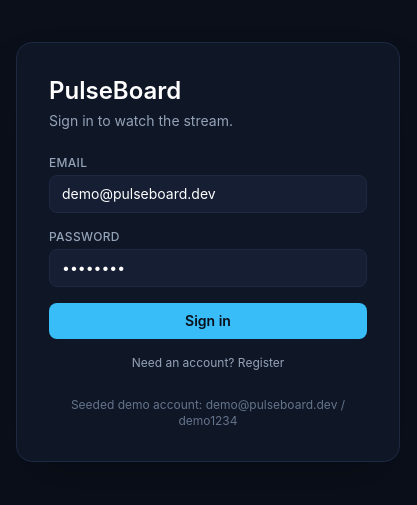
Test: LoginPage › shows the API message when the credentials are rejected
The width and height of the screenshot is (417, 505).
Click the button "Sign in". click: [208, 321]
box: [49,303,367,339]
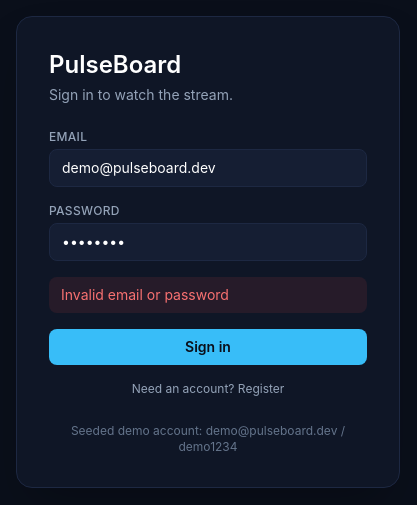
Now the message reads "Invalid email or password", box [61,286,229,303]
